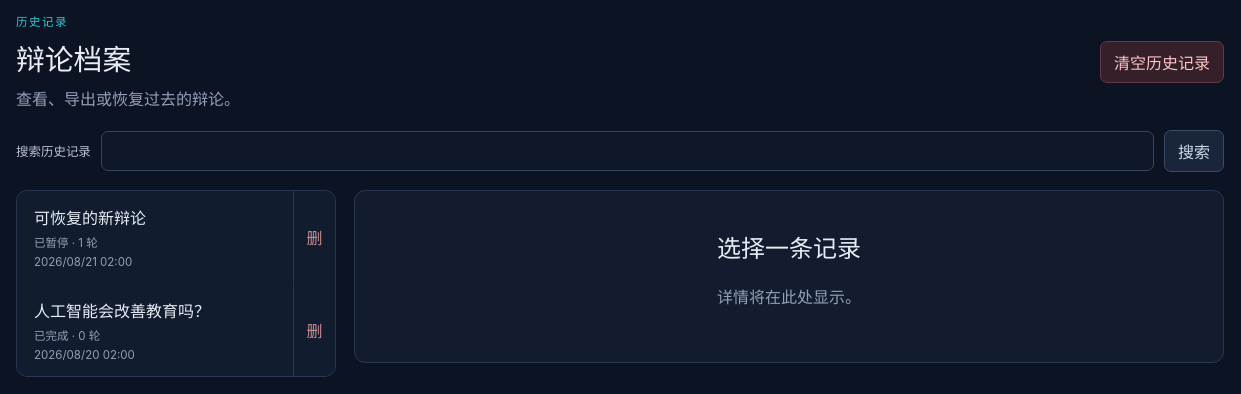
Scenario: history page › invalidates a delayed detail when a new search replaces its list
Click the button with aria-label "查看可恢复的新辩论". click: coordinates (90, 218)
box: [17,191,293,283]
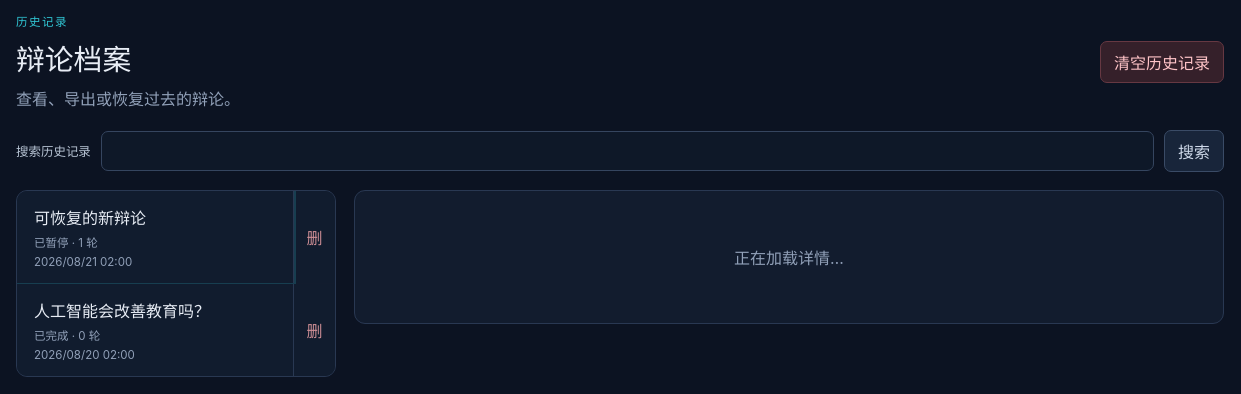
Type "旧记录" into the search field labelled "搜索历史记录". click: coordinates (627, 151)
box: [101,131,1154,171]
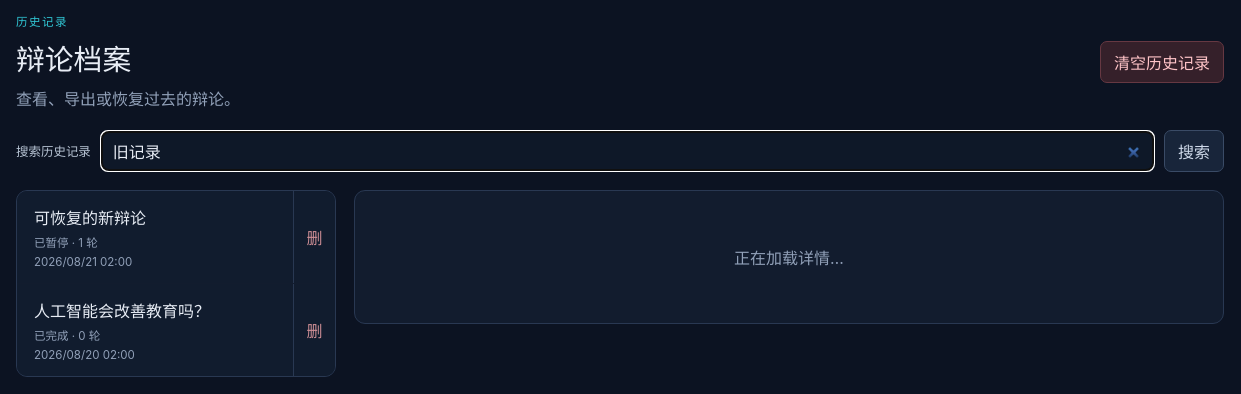
Click the button "搜索". click: coordinates (1194, 151)
box: [1164,130,1224,172]
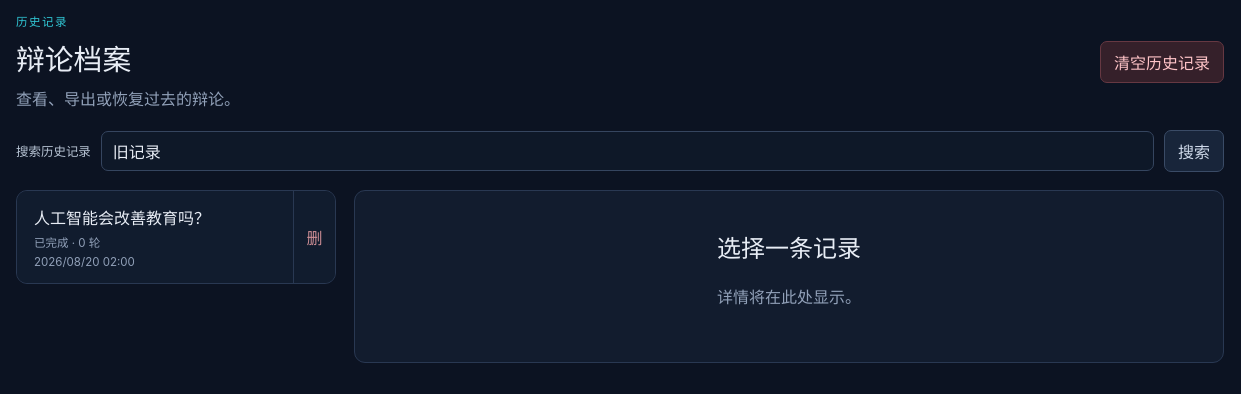
Result: the button "查看可恢复的新辩论" is gone
Result: the button "可恢复的新辩论" is gone
